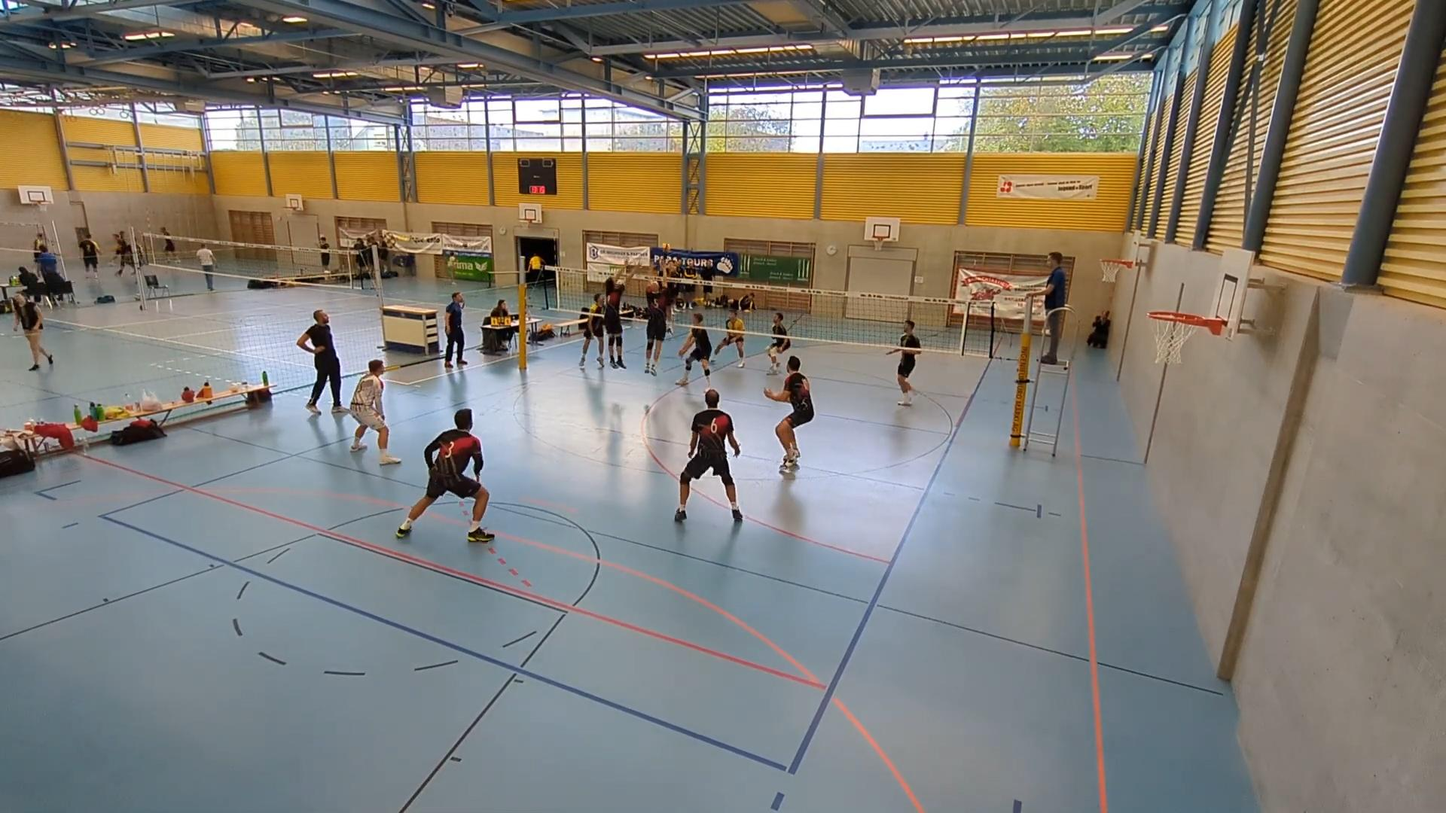Attack: (656, 252, 682, 333)
Block: (602, 259, 641, 371), (642, 259, 672, 381)
Player: (396, 409, 494, 542), (674, 389, 743, 522), (764, 356, 814, 472), (350, 360, 401, 464), (886, 320, 920, 406), (676, 312, 711, 387), (714, 308, 746, 369), (578, 294, 604, 368), (767, 312, 791, 375)
ball: (657, 238, 676, 257)
